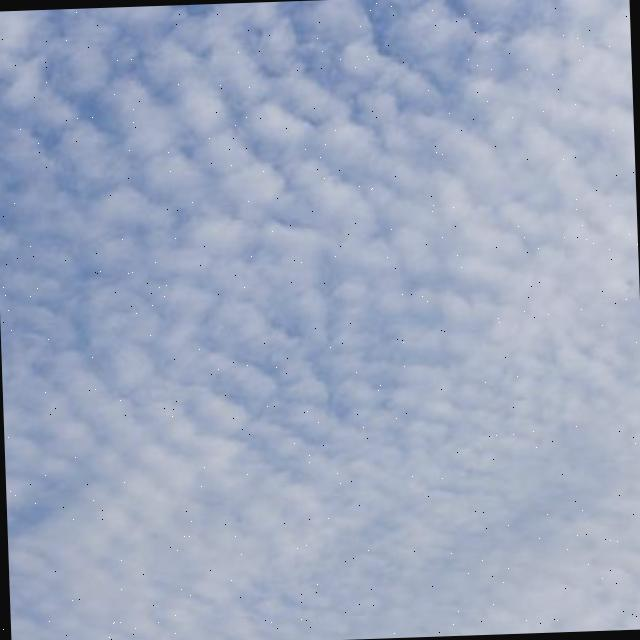Cc: (1, 9, 622, 576)
